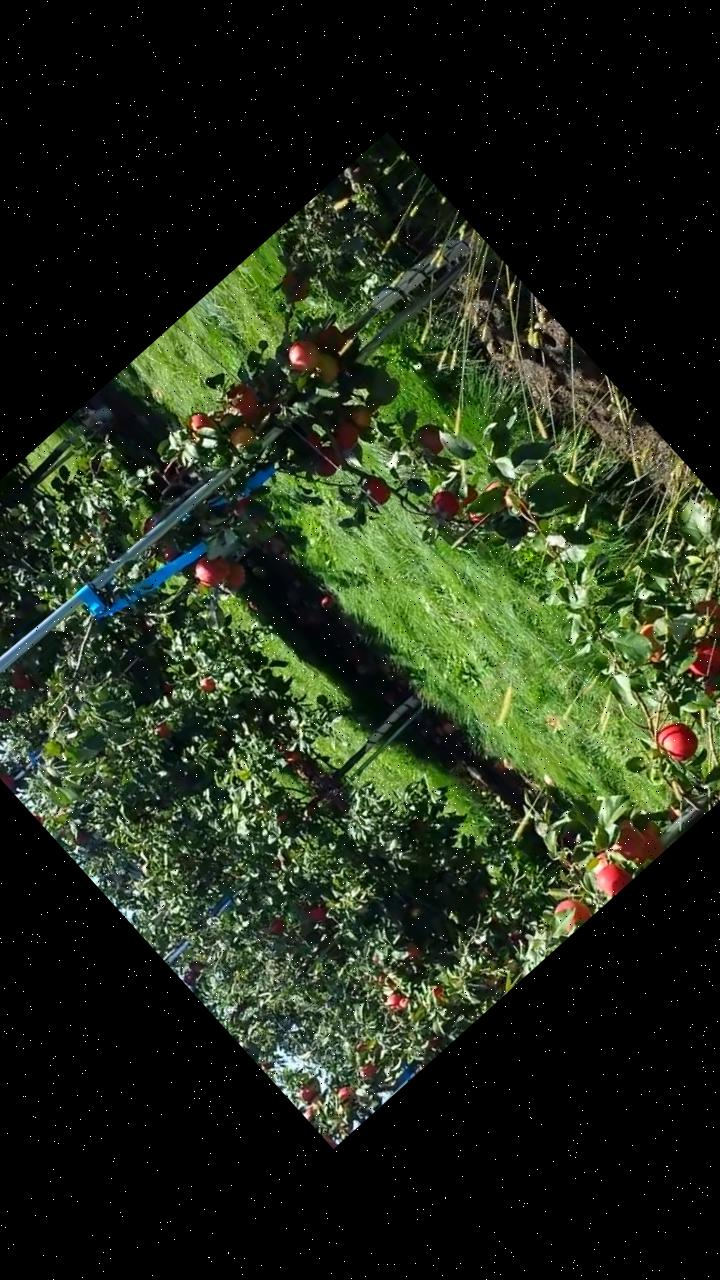Apple: (604, 822, 657, 875), (652, 714, 704, 766), (276, 332, 326, 382), (677, 632, 719, 689), (186, 546, 233, 593), (548, 890, 594, 936), (683, 589, 719, 647), (629, 619, 674, 664), (588, 858, 633, 902), (210, 552, 254, 596), (221, 380, 265, 424), (628, 820, 672, 864), (302, 440, 346, 484), (322, 418, 364, 460), (304, 346, 346, 388), (410, 418, 450, 458), (356, 470, 395, 510), (312, 319, 352, 358), (428, 486, 466, 524), (221, 418, 259, 455), (279, 268, 315, 304), (342, 400, 374, 432), (184, 406, 214, 436), (480, 478, 510, 507), (463, 502, 492, 530), (454, 484, 482, 511), (496, 490, 524, 517), (228, 492, 255, 519), (586, 851, 612, 877), (298, 428, 323, 454), (137, 511, 162, 536), (156, 542, 178, 564), (699, 677, 720, 697)
